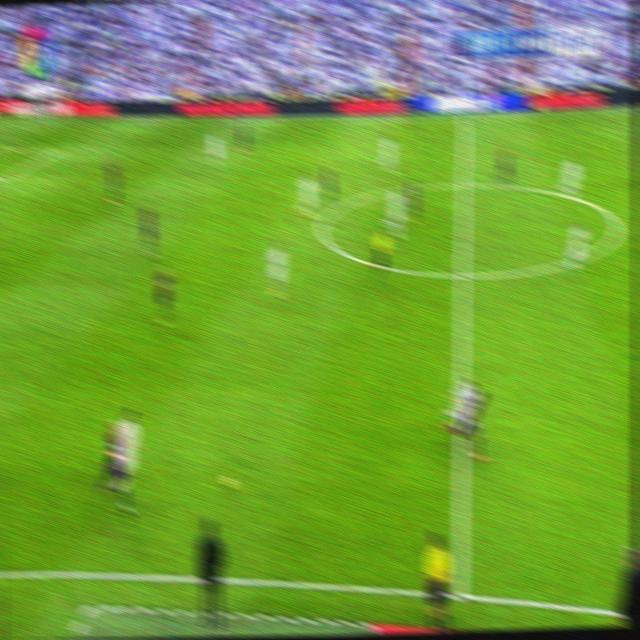halfcircle_bottom: (452, 257, 472, 292)
halfcircle_top: (454, 169, 472, 199)
midline_bottom_intersection: (448, 573, 472, 607)
midline_top_intersection: (456, 112, 471, 127)
